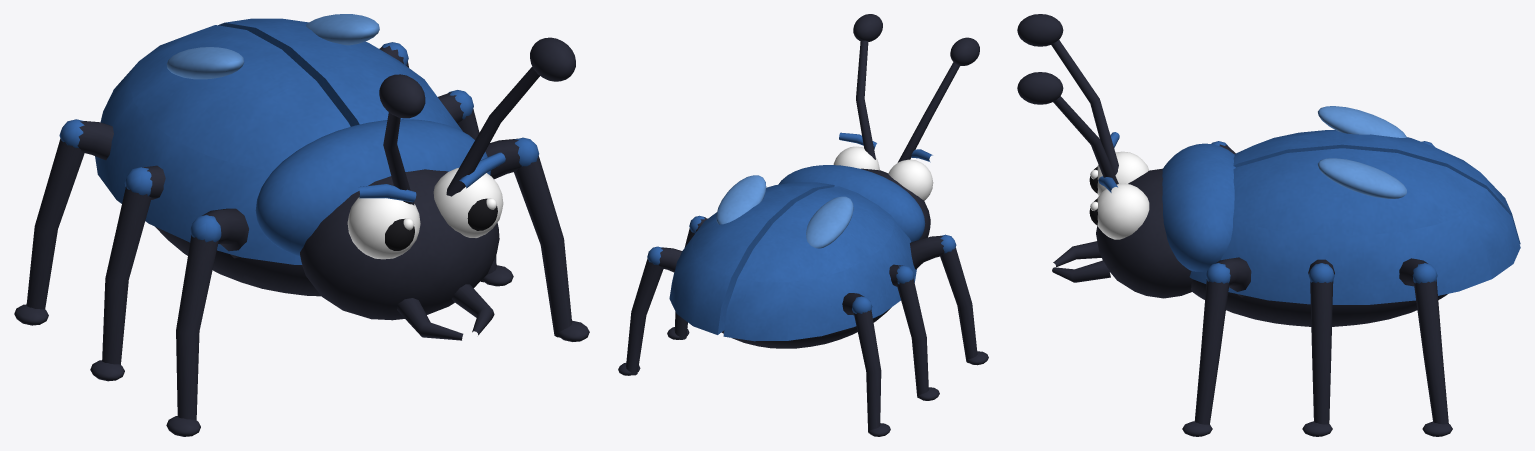
Rendered from escarabajo.gltf.
3 views of the same model, side by side, from view 1: azimuth 30°, elevation 25°; view 2: azimuth 150°, elevation 25°; view 3: azimuth 270°, elevation 25° (orthographic). The views are drawn at different scales.
Parts seen in each view (by area): view 1: escarabajo, pata_izq_1, pata_izq_3, pata_der_1, pata_izq_2, pata_der_2; view 2: escarabajo, pata_izq_1, pata_izq_3, pata_der_3, pata_izq_2, pata_der_2; view 3: escarabajo, pata_der_1, pata_der_3, pata_der_2.
Boxes of the visible parts, box(x1,y1,x2,y2) form: escarabajo: box(95, 14, 575, 340); pata_izq_1: box(166, 208, 248, 436); pata_izq_3: box(14, 119, 113, 325); pata_der_1: box(485, 137, 589, 341); pata_izq_2: box(90, 165, 165, 381); pata_der_2: box(438, 90, 513, 286); escarabajo: box(669, 14, 979, 348); pata_izq_1: box(910, 234, 988, 365); pata_izq_3: box(842, 293, 890, 436); pata_der_3: box(618, 246, 681, 375); pata_izq_2: box(889, 264, 939, 400); pata_der_2: box(667, 215, 707, 339); escarabajo: box(1017, 14, 1520, 326); pata_der_1: box(1182, 257, 1251, 436); pata_der_3: box(1399, 258, 1452, 436); pata_der_2: box(1302, 259, 1334, 436).
Bounding box in the file's own units: 0.5544 × 0.5076 × 0.7336.
5 materials, 3 textured.
